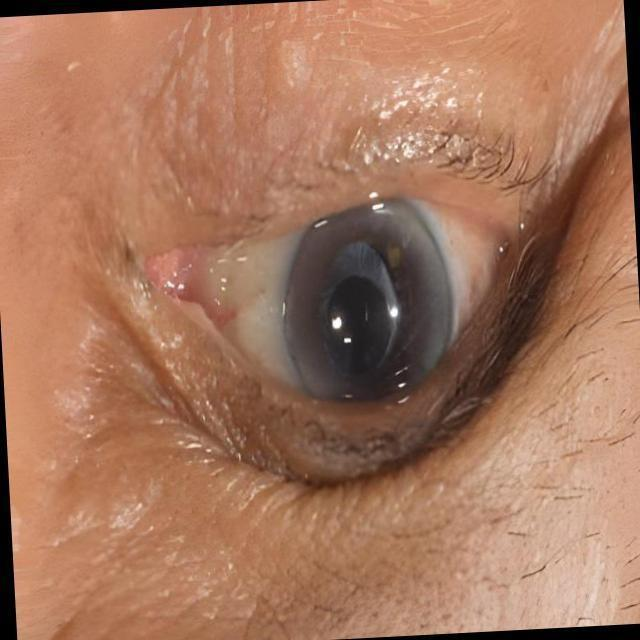Cataract: (272, 190, 468, 420)
